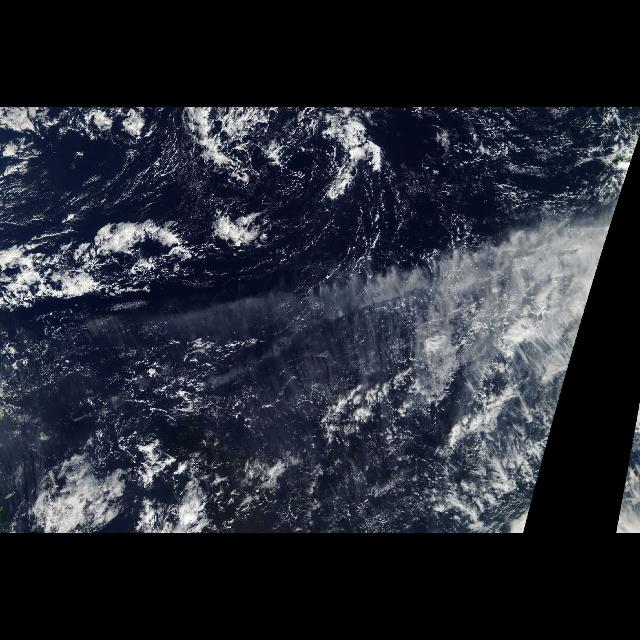Gravel: (6, 122, 506, 258), (183, 368, 485, 528)
